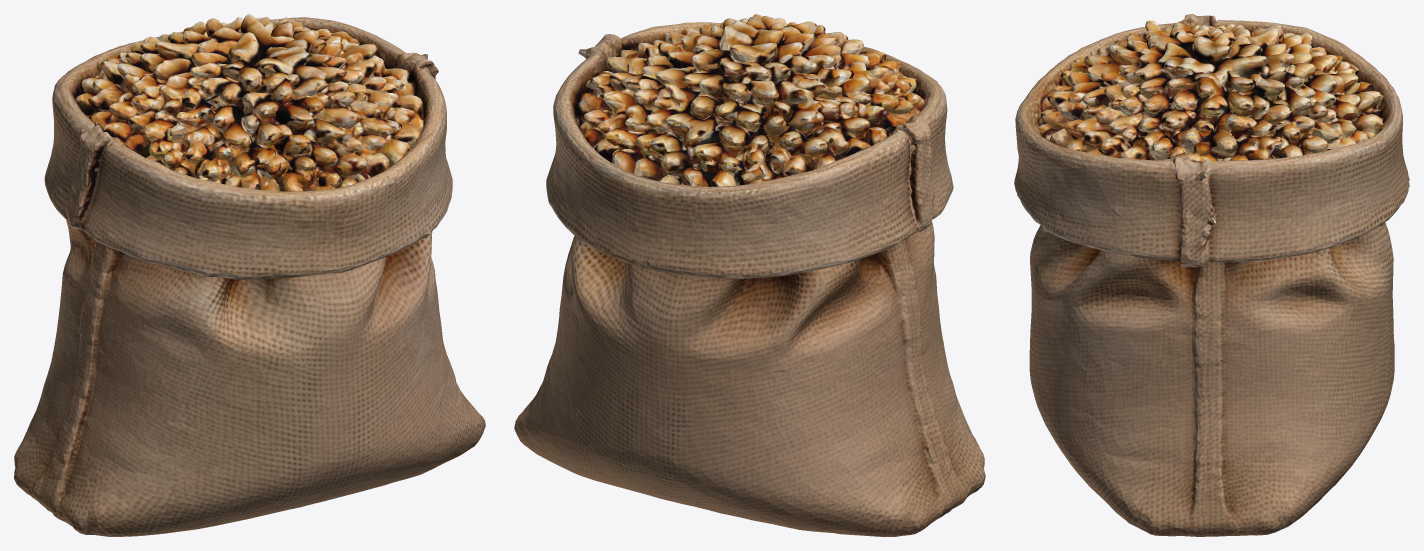
Rendered from mdl_sack_001.glb.
3 renders of one model, left to right at view 1: azimuth 30°, elevation 25°; view 2: azimuth 150°, elevation 25°; view 3: azimuth 270°, elevation 25°, orthographic. The views are drawn at different scales.
Parts seen in each view (by area): view 1: tmpeg4lp469.ply; view 2: tmpeg4lp469.ply; view 3: tmpeg4lp469.ply.
Part boxes in pixels (x1,y1,x2,y2): tmpeg4lp469.ply: (14,14,485,536); tmpeg4lp469.ply: (514,14,985,536); tmpeg4lp469.ply: (1014,14,1409,536).
Bounding box in the file's own units: 0.987 × 0.9831 × 0.8642.
1 material, 1 textured.
